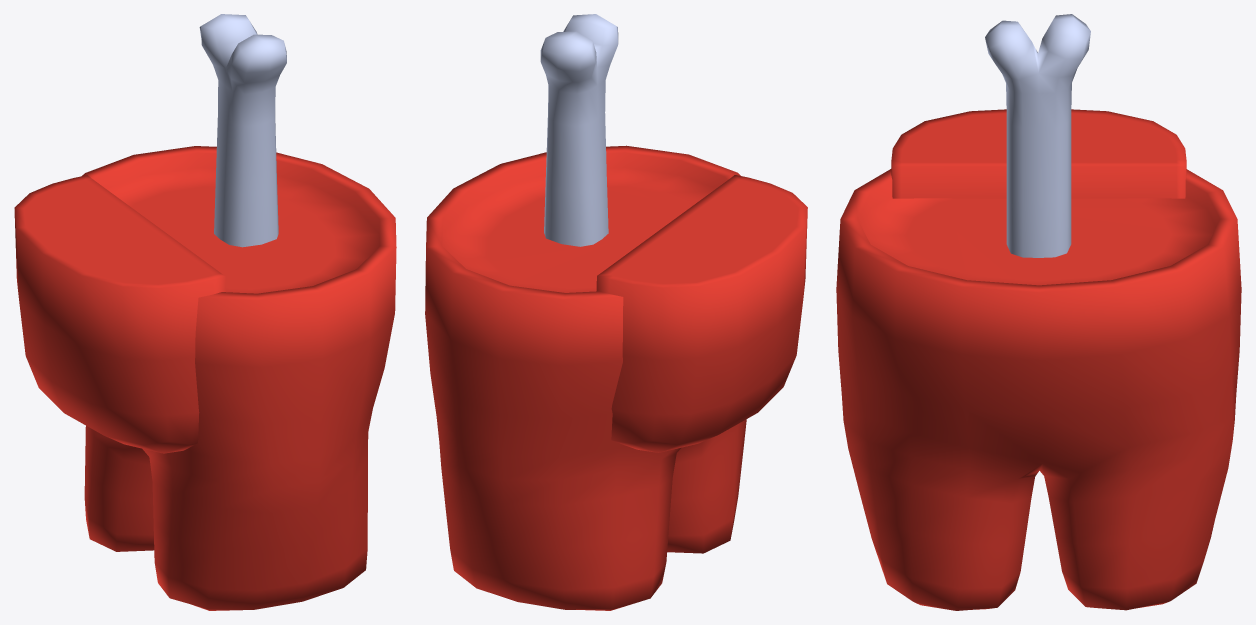
File: crewmate_dead.fbx
3 views of the same model, side by side, from view 1: azimuth 30°, elevation 25°; view 2: azimuth 150°, elevation 25°; view 3: azimuth 270°, elevation 25° (orthographic). The views are drawn at different scales.
Visible parts, largest first — view 1: DeadCrewmate; view 2: DeadCrewmate; view 3: DeadCrewmate.
Part boxes in pixels (box(x1,y1,x2,y2)): DeadCrewmate: box(14, 14, 396, 610); DeadCrewmate: box(425, 14, 807, 610); DeadCrewmate: box(836, 14, 1241, 610).
Size of the model in its own units: 80.06 by 123 by 81.13.
